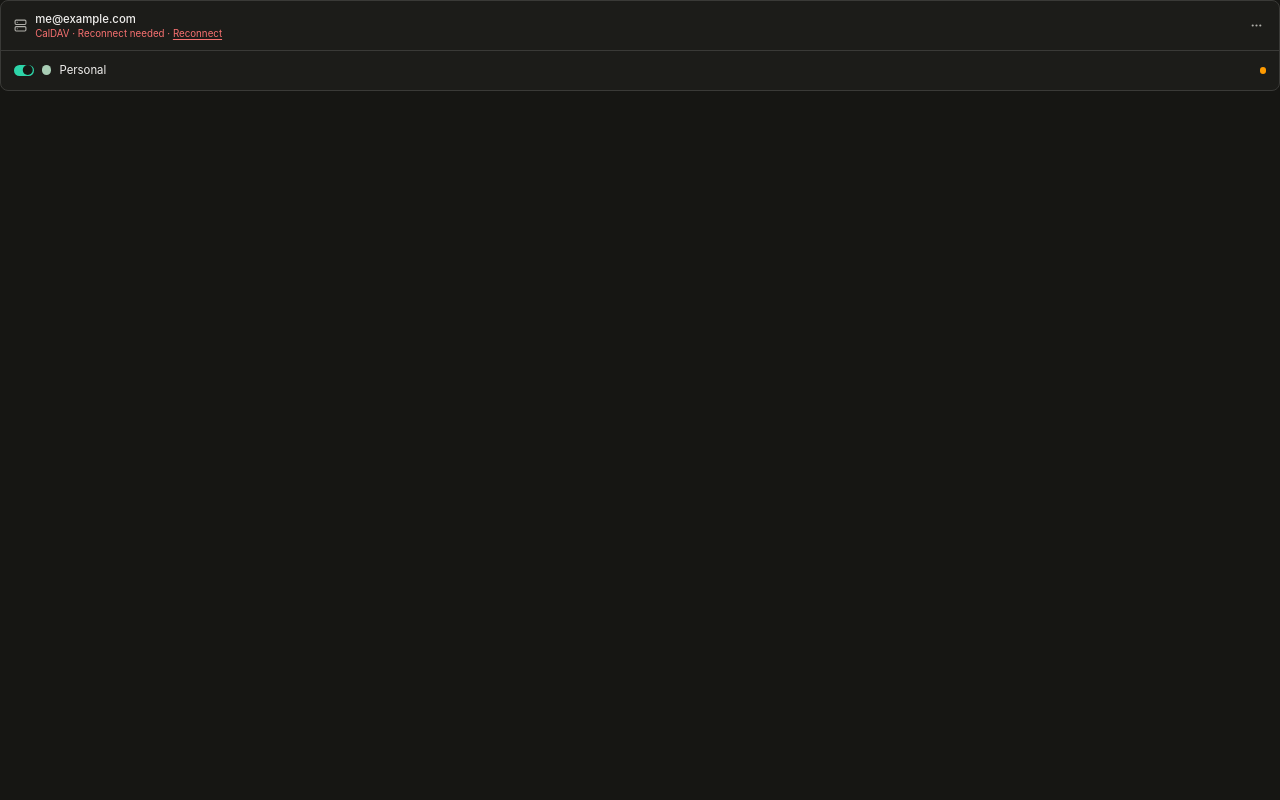
Test: SyncAccountCard › opens the reconnect dialog from the status link
What coordinates should you click on to do the following:
click the button "Reconnect"
I would click on:
 (198, 34)
Its box is [173,27,222,40].
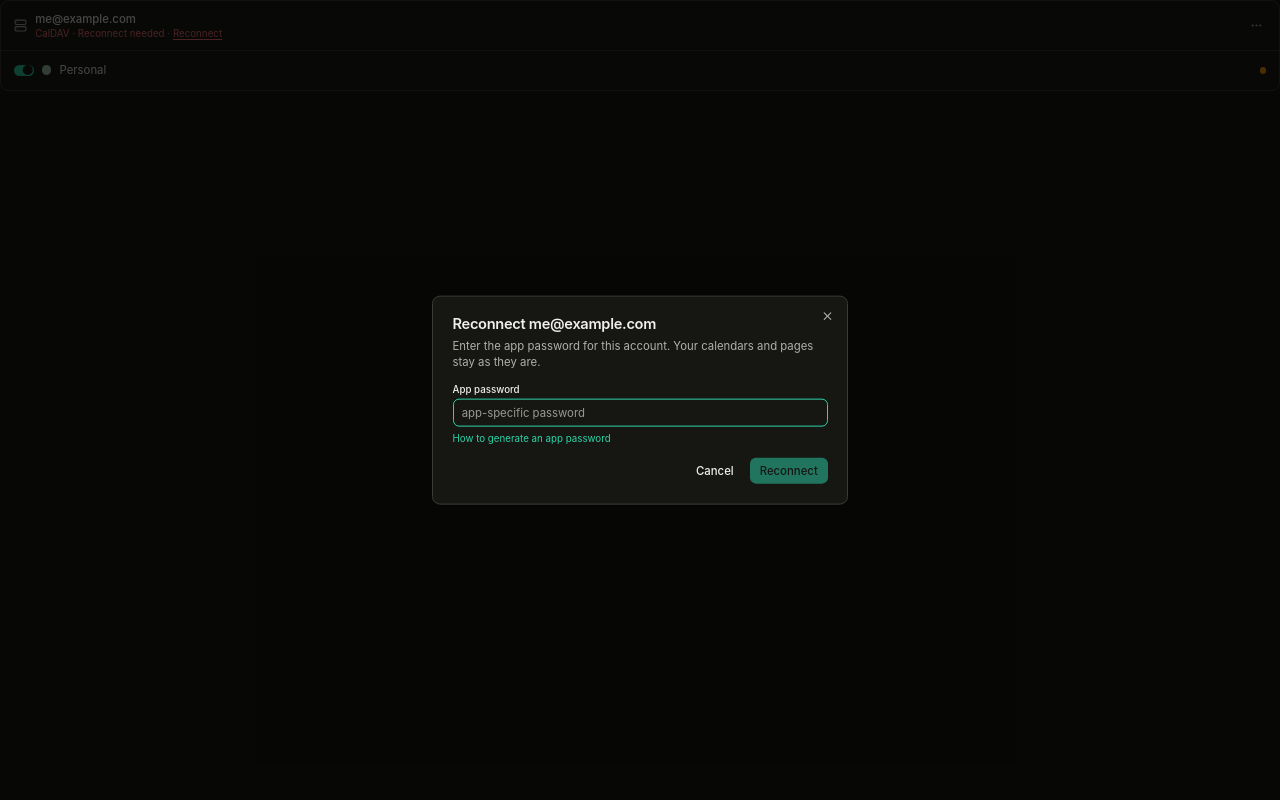
Now the dialog shows "Reconnect me@example.com", box [432,296,848,504]
